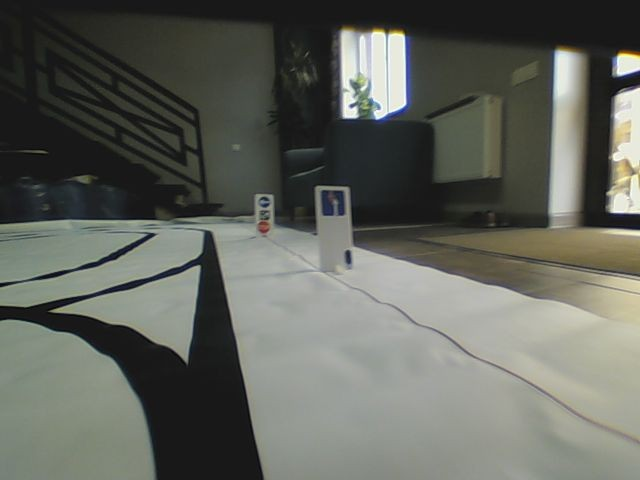priority_movement: (321, 188, 347, 217)
